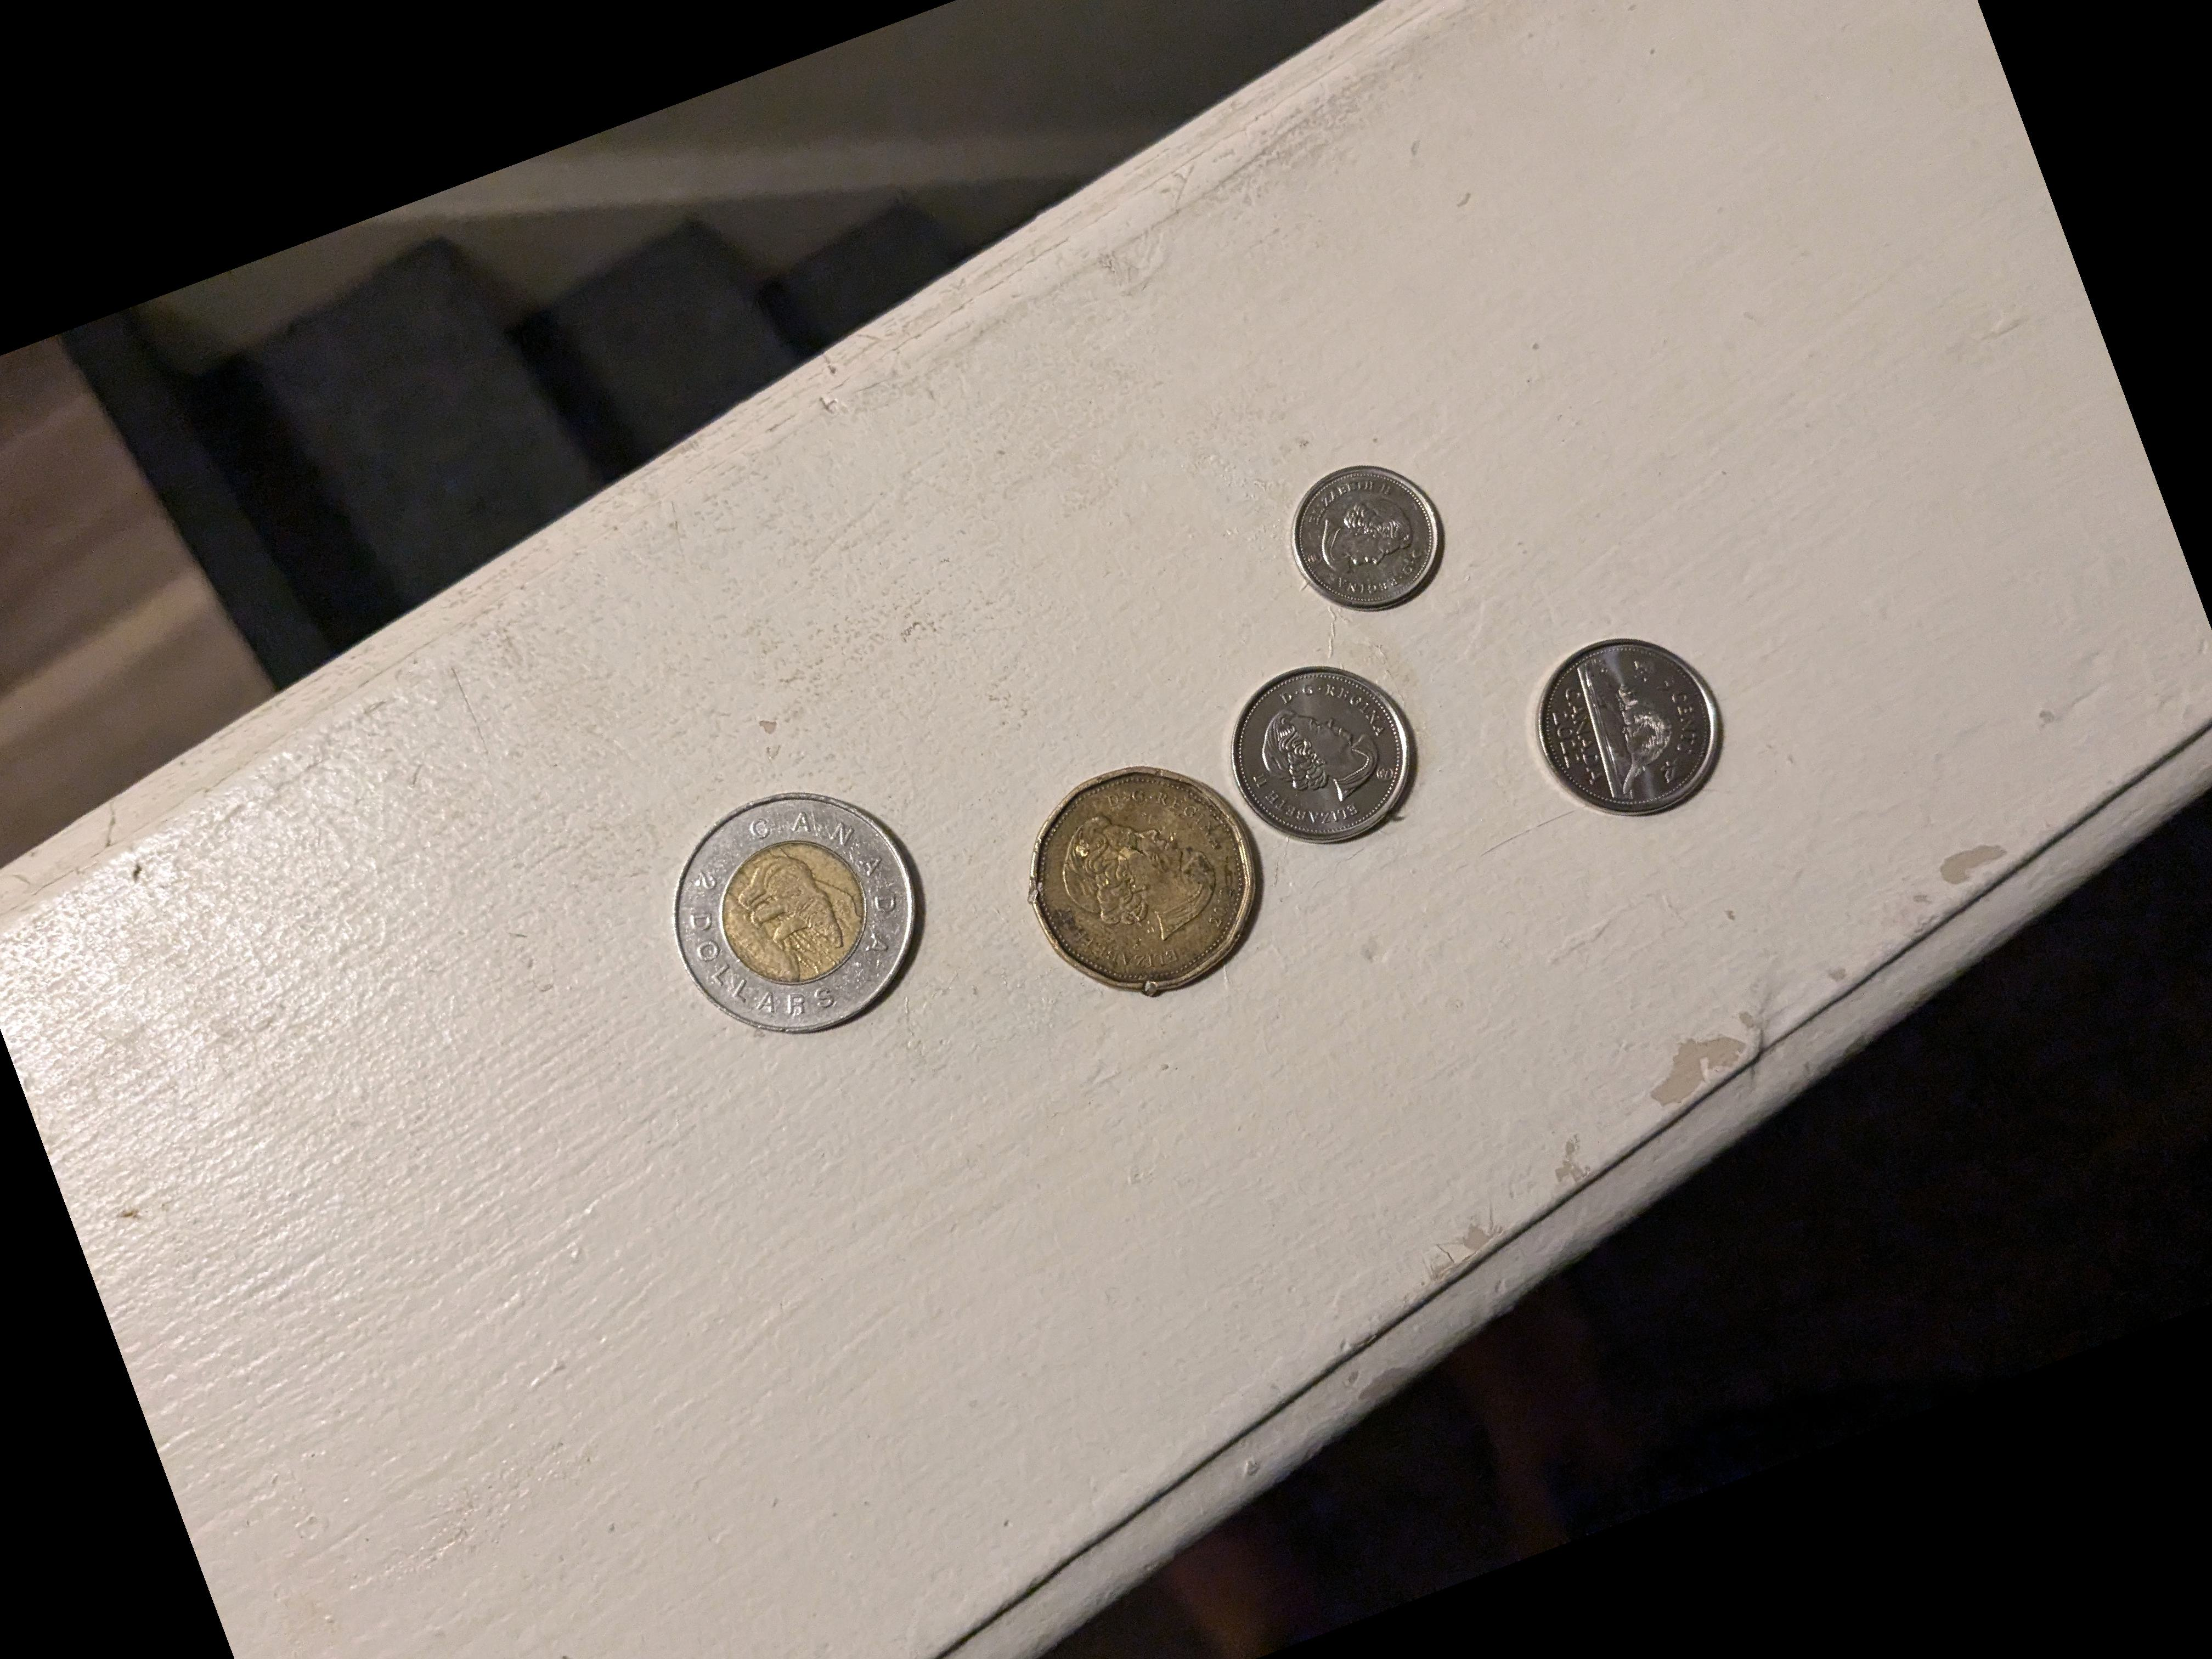dime: (1294, 457, 1453, 615)
loonie: (1033, 763, 1266, 995)
nickel: (1237, 666, 1426, 843), (1540, 643, 1721, 817)
toonie: (679, 798, 923, 1053)
